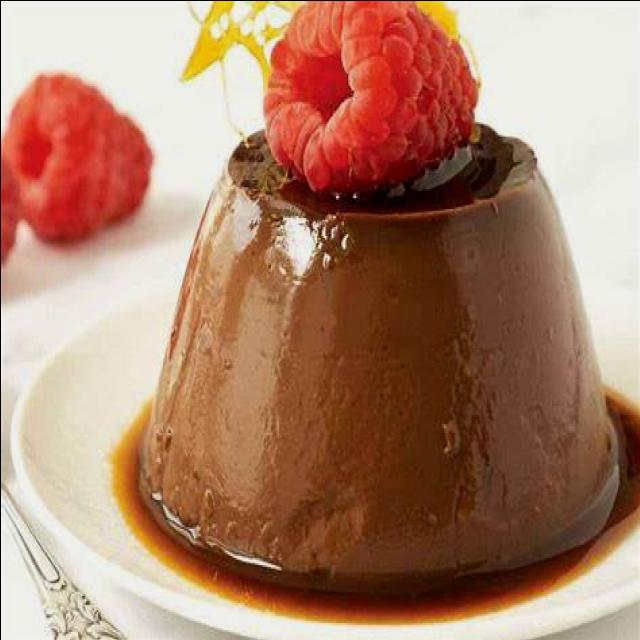puding: (134, 127, 625, 602)
